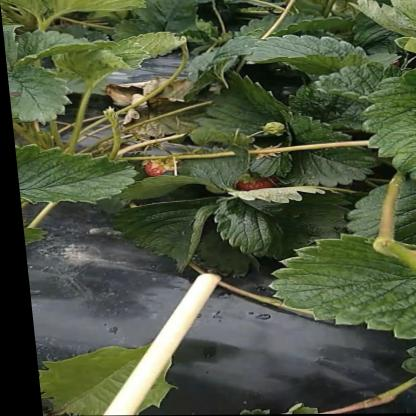ripe: (139, 159, 175, 178), (234, 179, 271, 190)
unripe: (261, 122, 283, 136)
